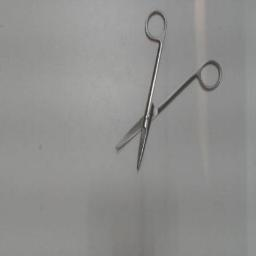Curved Mayo Scissors: (110, 5, 224, 175)
